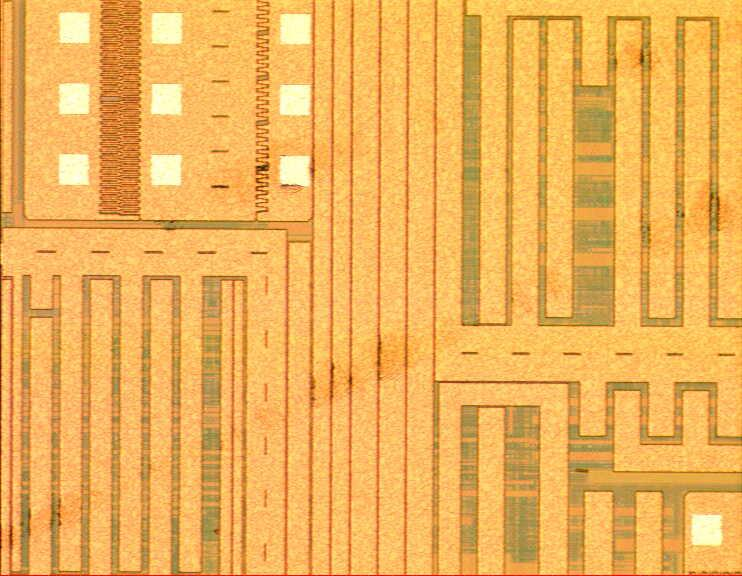SCRATCH: (1, 184, 732, 560)
